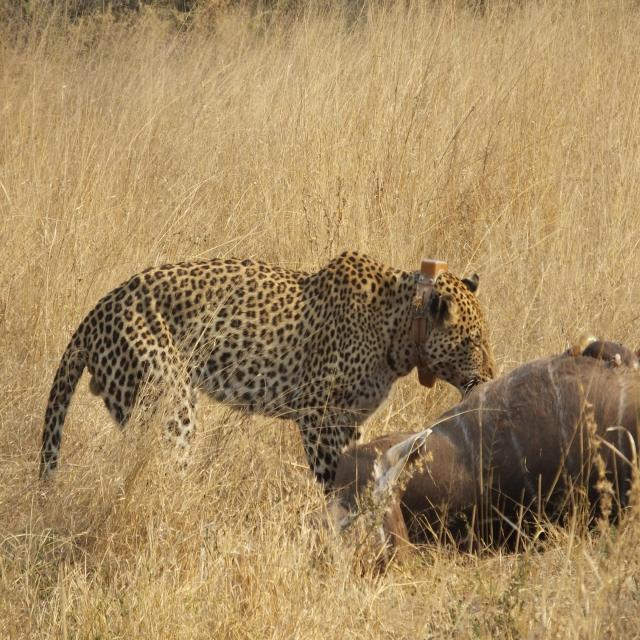Leopard: (46, 249, 491, 513)
